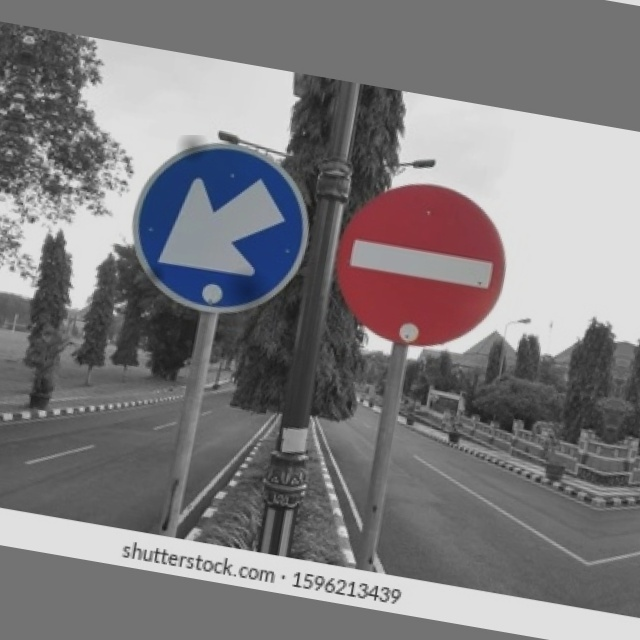Compulsory_Keep_Left: (124, 135, 315, 317)
